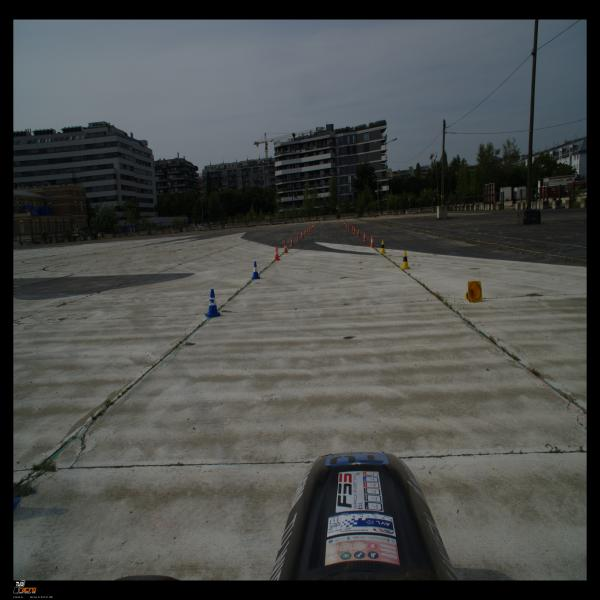blue_cone: (205, 289, 222, 318), (250, 262, 260, 280)
large_orange_cone: (313, 222, 315, 228), (344, 220, 346, 226)
orange_cone: (465, 281, 482, 302), (274, 246, 280, 261), (369, 235, 376, 247), (290, 237, 295, 247), (284, 241, 288, 253), (363, 231, 367, 242), (296, 233, 300, 242), (301, 230, 304, 238), (357, 229, 360, 237), (304, 229, 307, 235), (351, 225, 354, 231), (354, 226, 356, 234), (307, 227, 309, 233), (348, 224, 350, 230), (311, 224, 313, 229), (346, 223, 348, 228), (309, 226, 311, 230), (345, 222, 346, 227)
yellow_cone: (400, 251, 410, 270), (380, 240, 386, 254)
